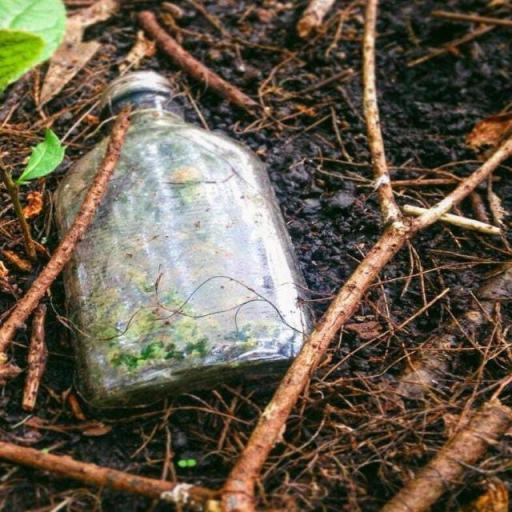glass: (39, 66, 359, 414)
